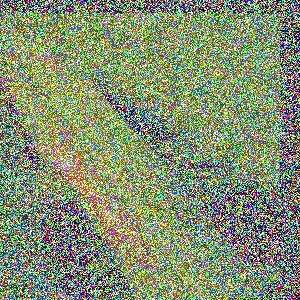Brown_Spot: (77, 190, 161, 264), (42, 130, 90, 185)
